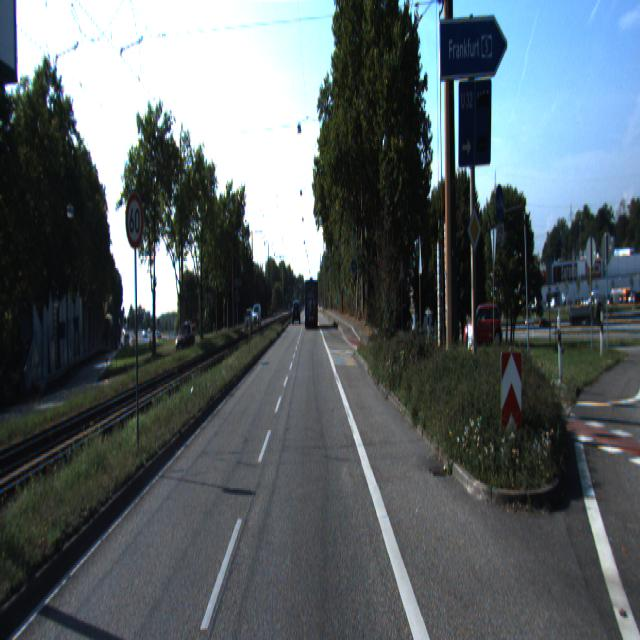Car: (463, 301, 502, 349), (304, 279, 318, 330), (175, 323, 197, 353)
